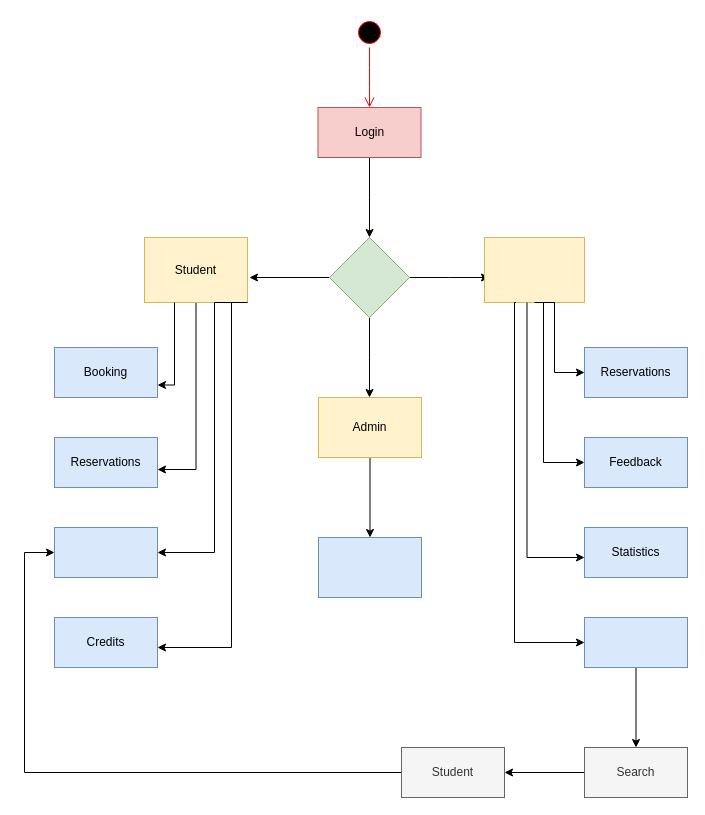
This 705x815 diagram has some shape labels left out. Each missing label, with the centre of its shape:
"CRUD" belongs at (370,567).
"Instructor" belongs at (534,269).
"Progression" belongs at (106,552).
"Students" belongs at (636,642).
"User?" belongs at (369,277).
